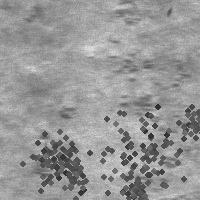rolled-in_scale: (107, 38, 199, 194), (83, 89, 200, 200), (23, 122, 115, 200), (12, 113, 94, 195), (28, 104, 77, 183), (164, 94, 200, 148), (106, 1, 150, 33), (111, 168, 153, 200)
